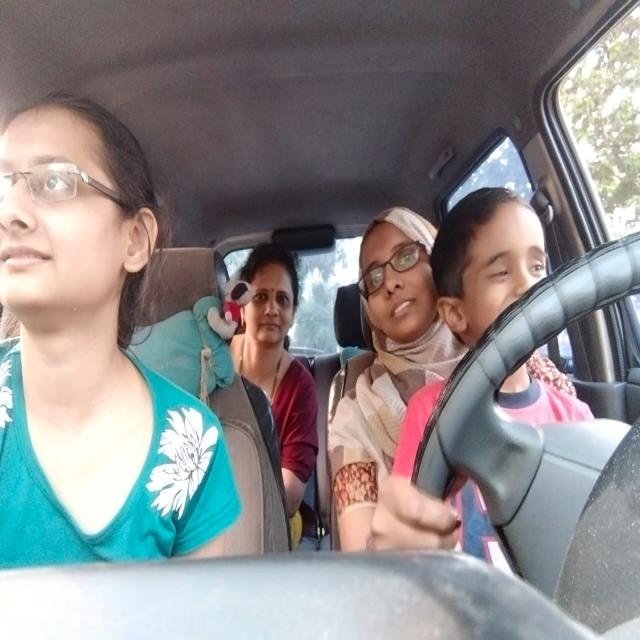child: (441, 185, 563, 365)
person: (1, 88, 168, 372), (344, 208, 430, 360), (233, 234, 309, 367)
